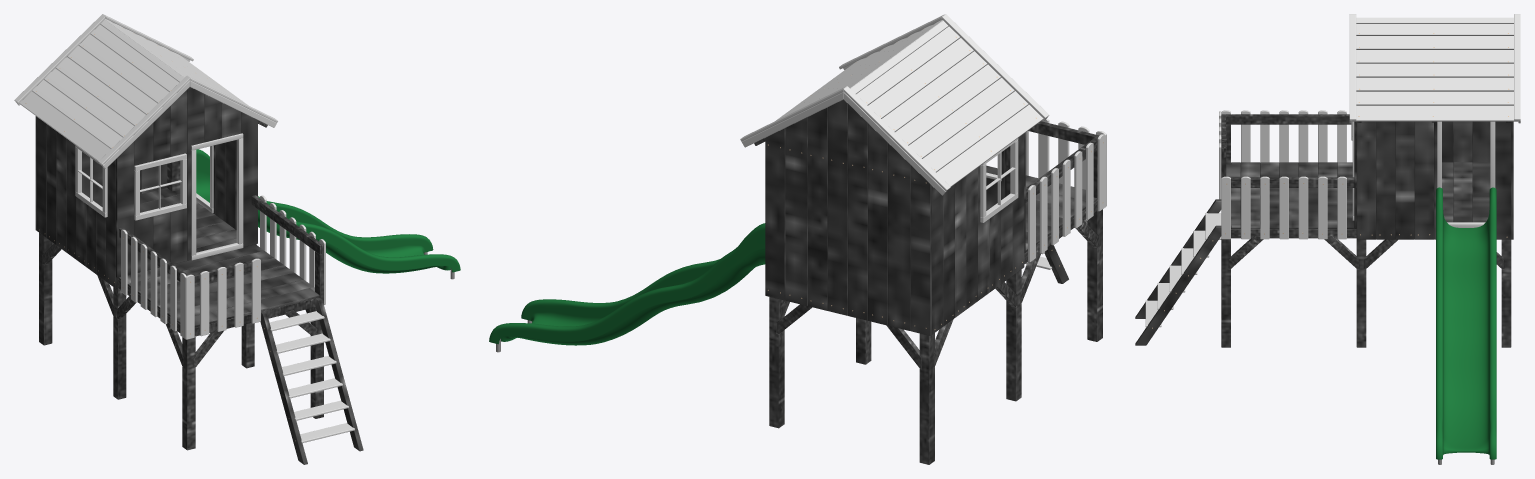
Rendered from Playground.fbx.
The picture shows the model from 3 angles, left to right: view 1: azimuth 30°, elevation 25°; view 2: azimuth 150°, elevation 25°; view 3: azimuth 270°, elevation 25°; orthographic projection. The views are drawn at different scales.
Parts seen in each view (by area): view 1: fence/walls, stairs, fence roof, blanks, suports, slide, window, doors; view 2: fence/walls, stairs, fence roof, blanks, suports, slide, window, doors; view 3: stairs, fence roof, fence/walls, slide, blanks, suports, window, doors.
Boxes of the visible parts, x1,y1,x2,y2 form: fence/walls: [35, 87, 319, 327]; stairs, fence roof: [14, 14, 354, 443]; blanks, suports: [39, 120, 363, 464]; slide: [196, 149, 460, 273]; window, doors: [75, 133, 243, 260]; fence/walls: [765, 99, 1096, 335]; stairs, fence roof: [740, 14, 1106, 269]; blanks, suports: [754, 121, 1102, 464]; slide: [489, 223, 765, 345]; window, doors: [980, 138, 1018, 222]; stairs, fence roof: [1145, 14, 1520, 327]; fence/walls: [1226, 121, 1513, 239]; slide: [1436, 187, 1496, 459]; blanks, suports: [1135, 114, 1511, 347]; window, doors: [1351, 121, 1495, 227].
Bounding box in the file's own units: 472 × 346 × 399.
5 materials, 1 textured.
